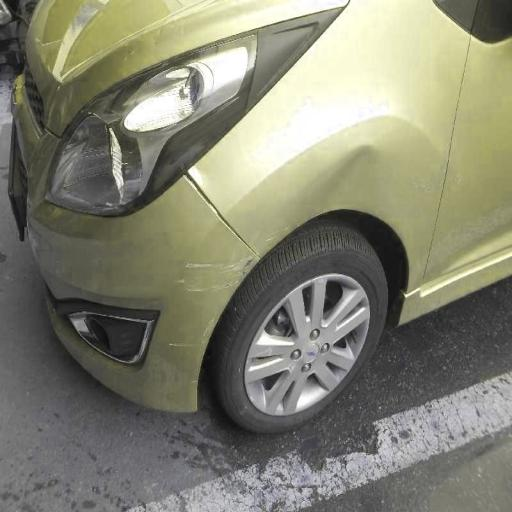scratch: (118, 113, 298, 404)
